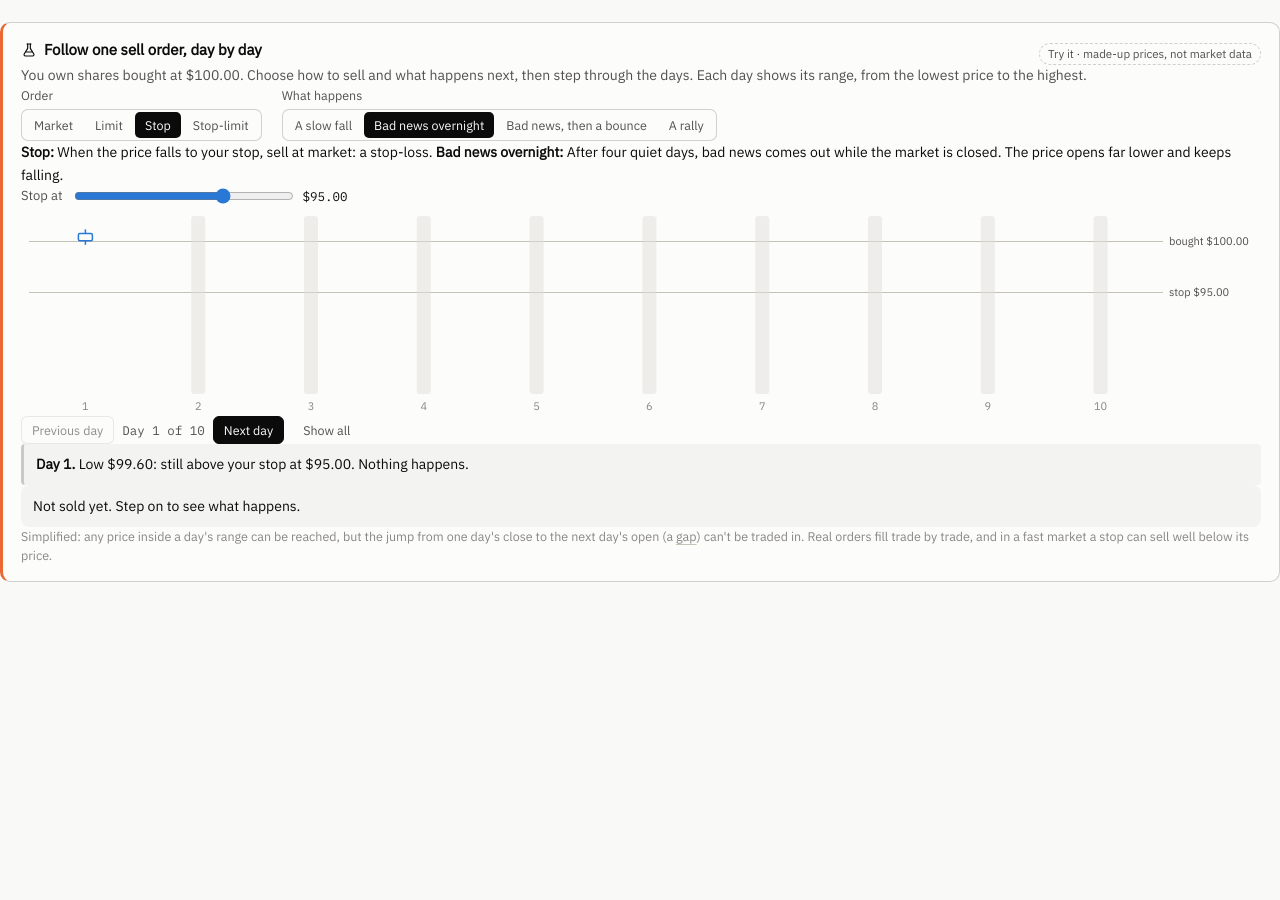
Test: following one sell order › a stop-limit holds out for its limit, and may never sell
Click the button "Stop-limit": [221, 125] box [183,112,259,138]
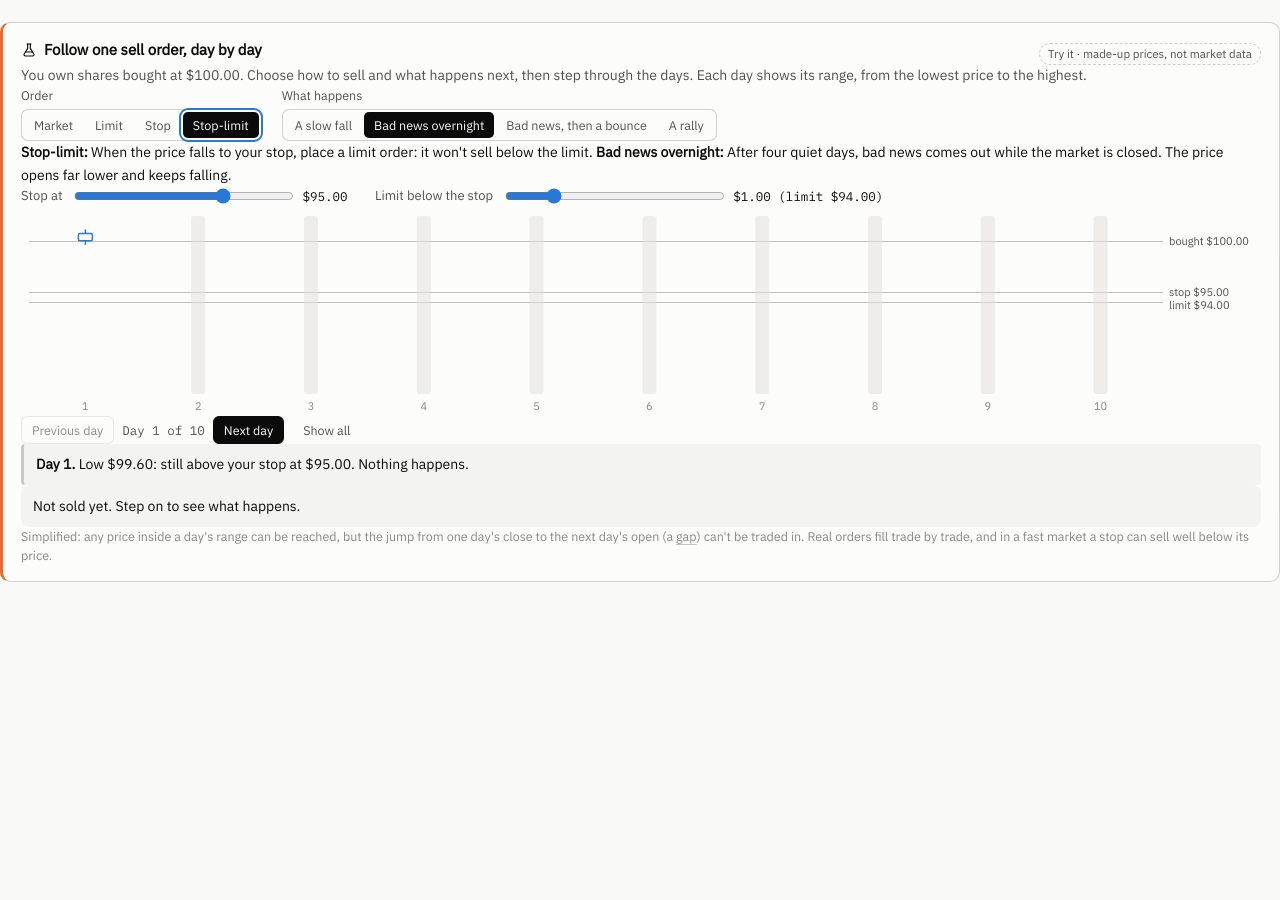
Click the button "Show all": [327, 430] box [292,416,362,444]
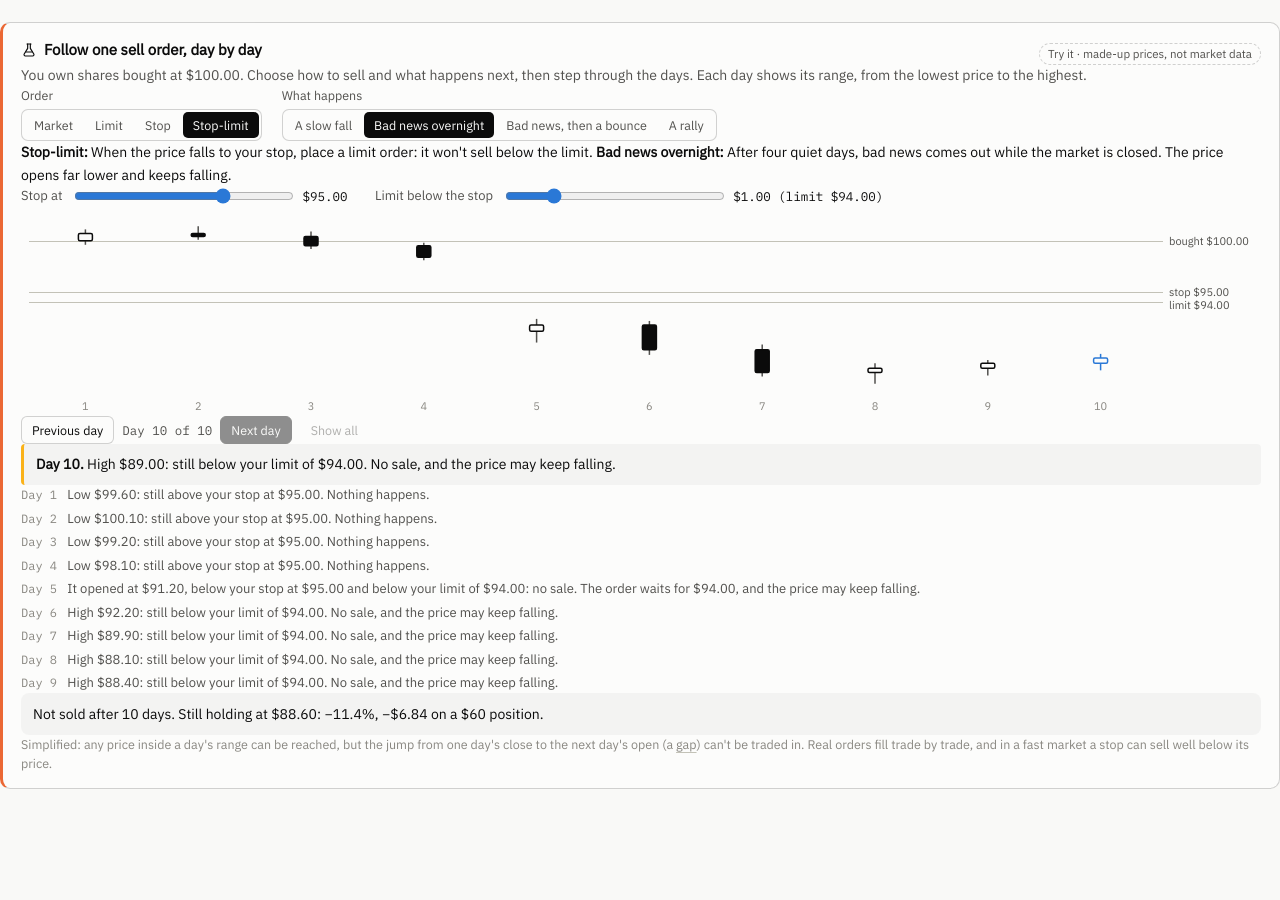
Expected: the text "Not sold after 10 days. Still holding at $88.60: −11.4%" is shown, [33,704,544,722]
Click the button "Bad news, then a bounce": [577, 125] box [496,112,657,138]
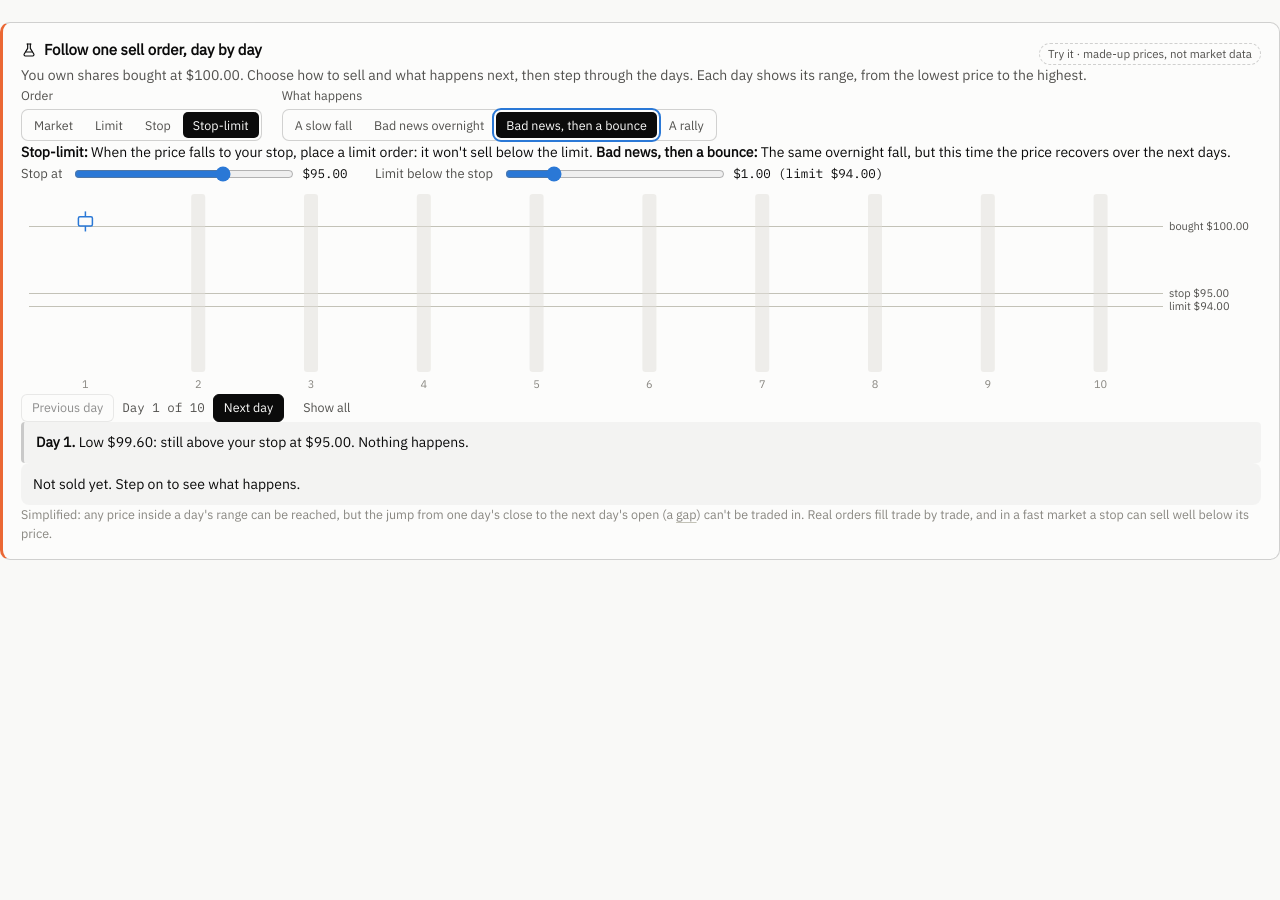
Expected: the text "Day 1 of 10" is shown, [122,398,205,417]
Click the button "Show all": [327, 408] box [292,394,362,422]
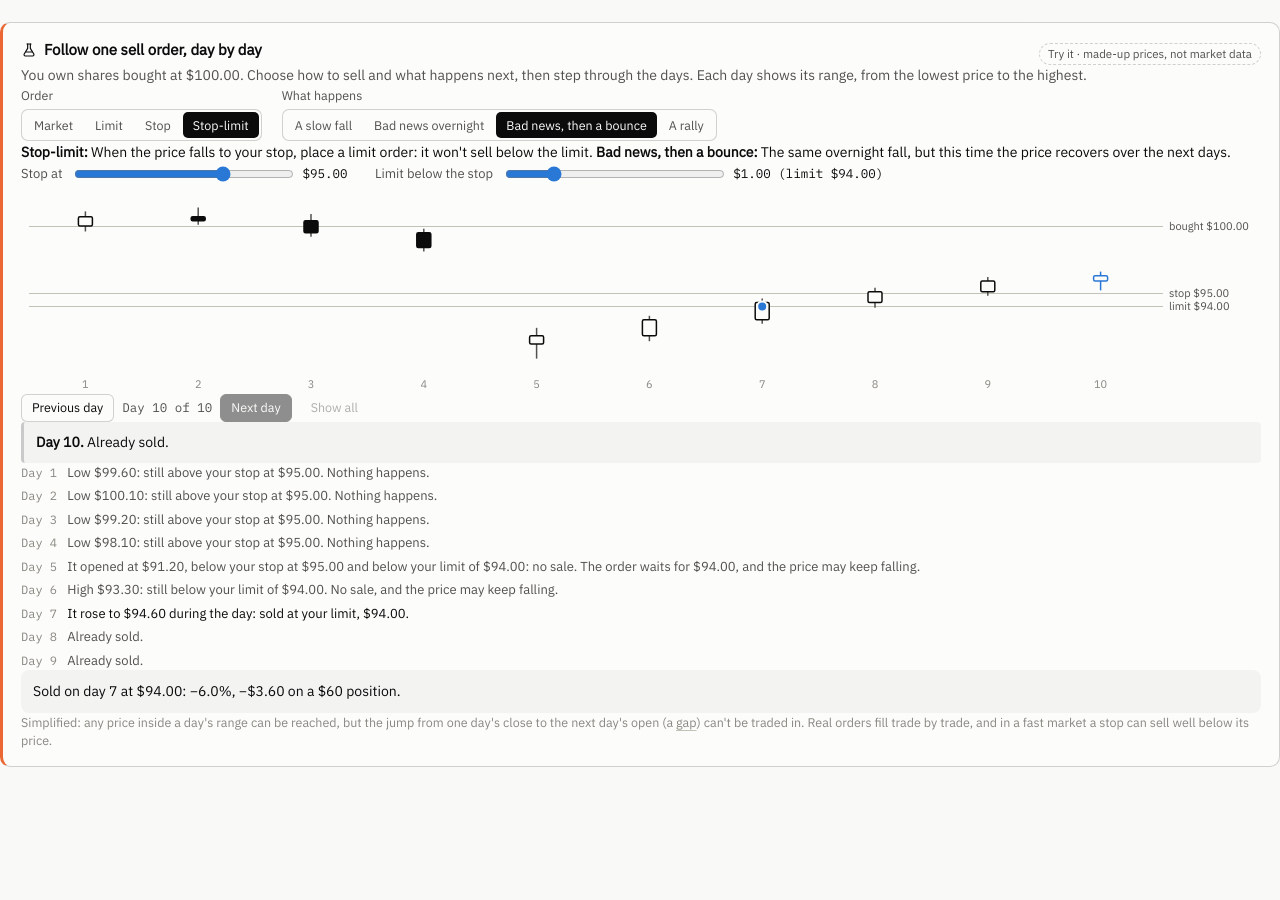
Expected: the text "Sold on day 7 at $94.00: −6.0%, −$3.60 on a $60 position." is shown, [21,670,1261,712]
